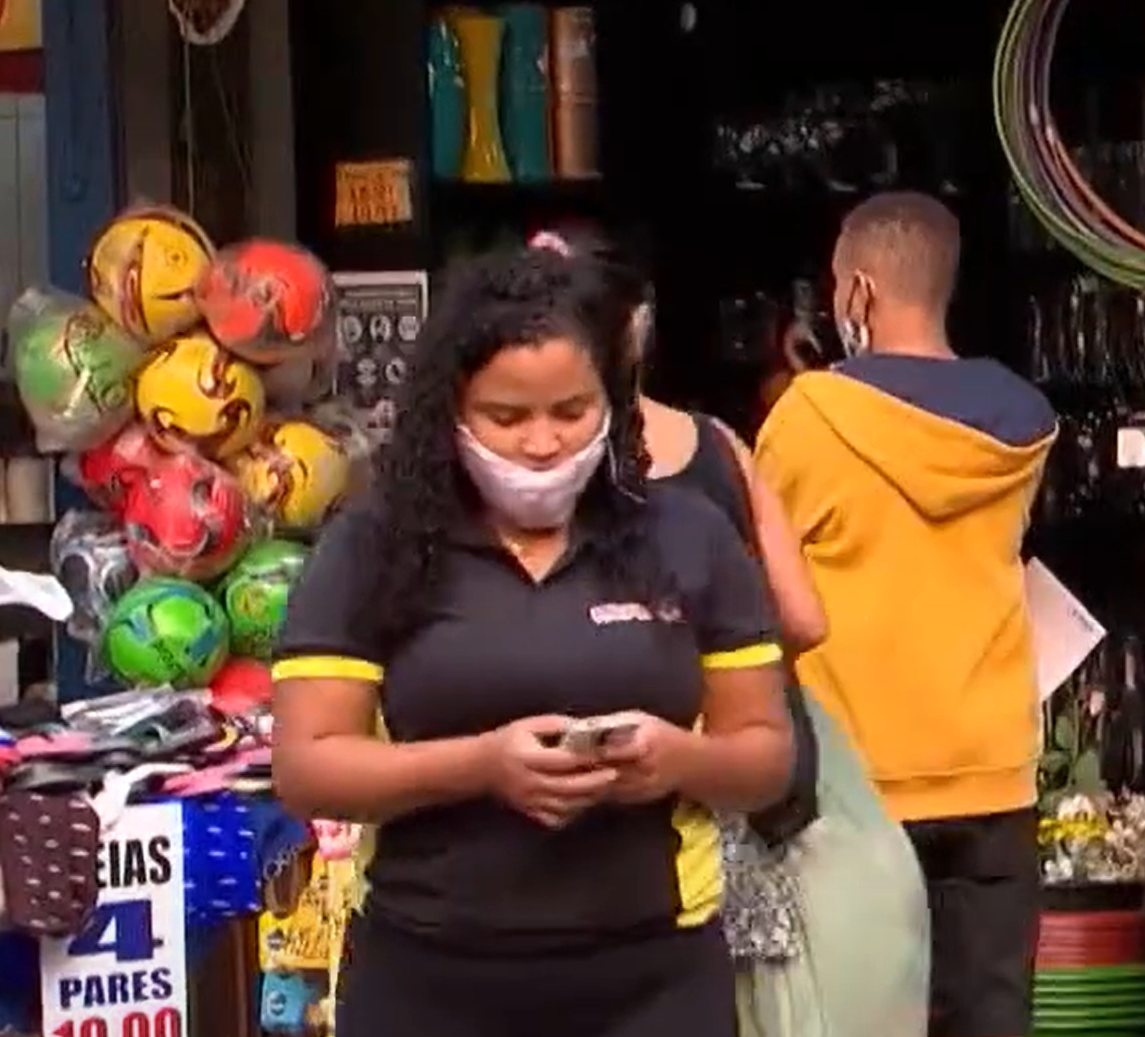mask_weared_incorrect: (421, 322, 636, 556)
